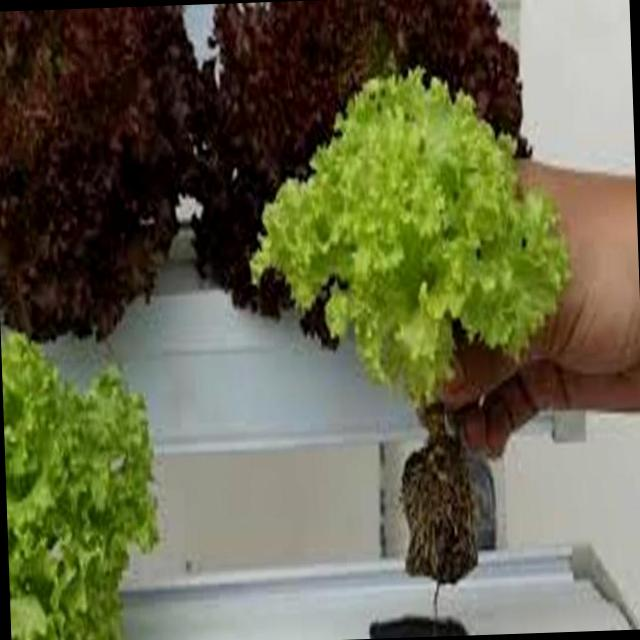Lettuce-Ready-to-Harvest: (248, 69, 572, 435), (201, 0, 522, 311), (0, 5, 210, 344), (0, 327, 159, 640)
